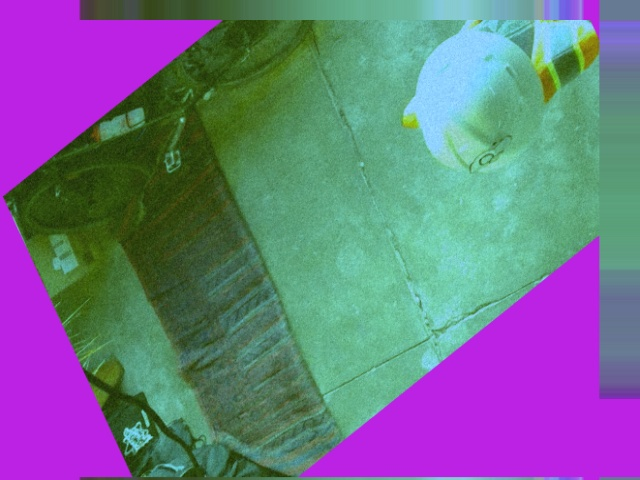eight: (463, 127, 517, 181)
